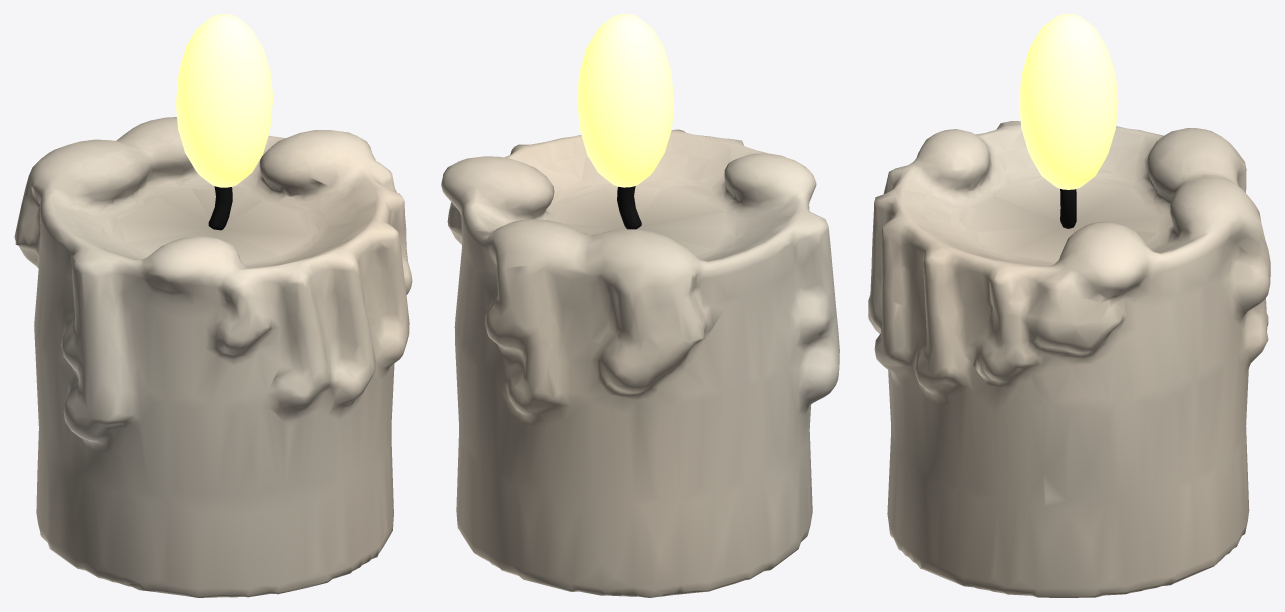
File: frost_candle_stub.glb
3 views of the same model, side by side, from view 1: azimuth 30°, elevation 25°; view 2: azimuth 150°, elevation 25°; view 3: azimuth 270°, elevation 25° (orthographic).
Parts seen in each view (by area): view 1: frost_candle_stub, flame; view 2: frost_candle_stub, flame; view 3: frost_candle_stub, flame.
Boxes of the visible parts, <box> form: frost_candle_stub: <box>14,117,412,597</box>; flame: <box>175,14,273,187</box>; frost_candle_stub: <box>441,129,839,597</box>; flame: <box>577,14,674,187</box>; frost_candle_stub: <box>868,121,1270,597</box>; flame: <box>1019,14,1118,189</box>.
Bounding box in the file's own units: 9.28 × 12.76 × 9.05.
